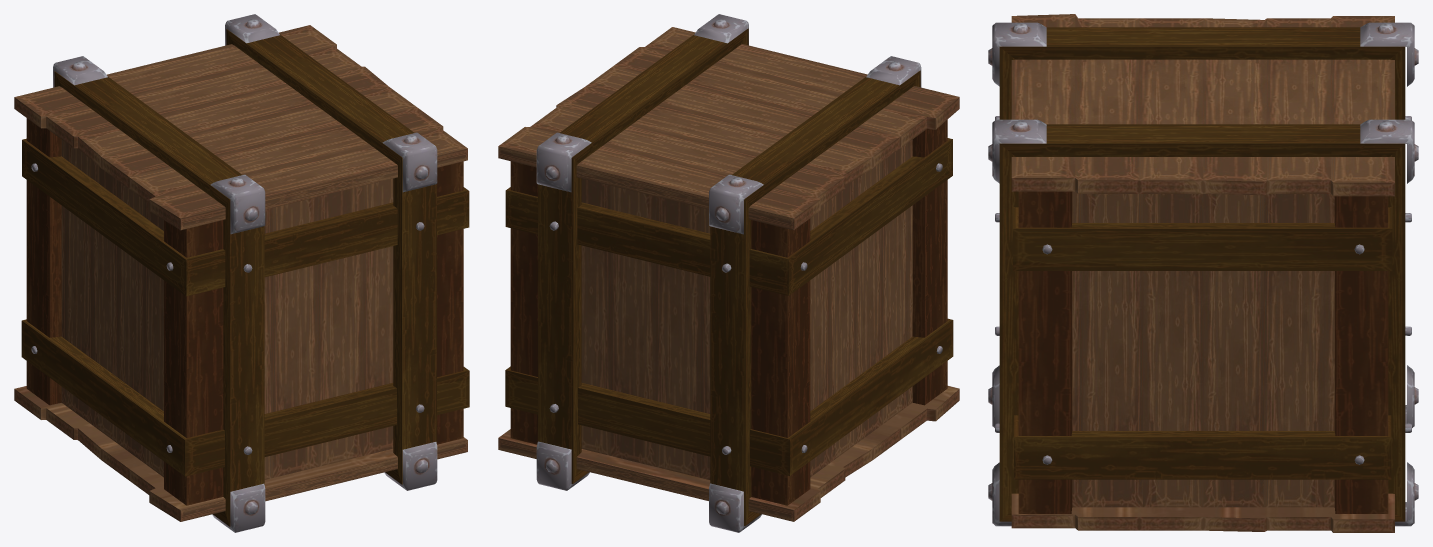
The model's file is Crate_Wooden.gltf.
The picture shows the model from 3 angles, left to right: view 1: azimuth 30°, elevation 25°; view 2: azimuth 150°, elevation 25°; view 3: azimuth 270°, elevation 25°; orthographic projection. The views are drawn at different scales.
Parts seen in each view (by area): view 1: Crate_Wooden; view 2: Crate_Wooden; view 3: Crate_Wooden.
Boxes of the visible parts, <box> form: Crate_Wooden: <box>14,14,469,532</box>; Crate_Wooden: <box>498,14,959,532</box>; Crate_Wooden: <box>988,14,1418,532</box>.
Size of the model in its own units: 0.8423 by 0.9309 by 0.9083.
Materials: 2 (2 with a texture image).
